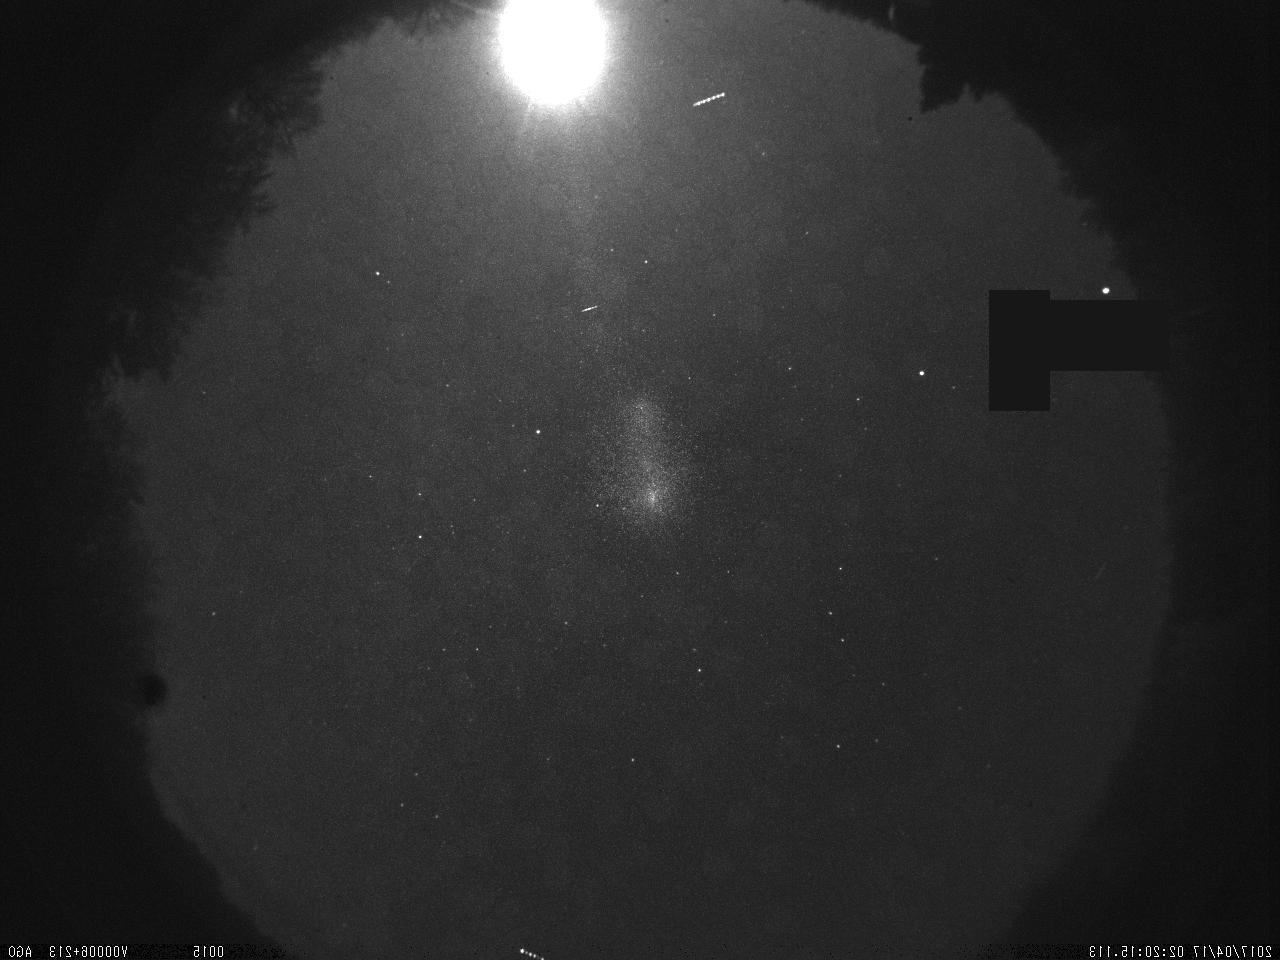meteor: (573, 297, 602, 319)
